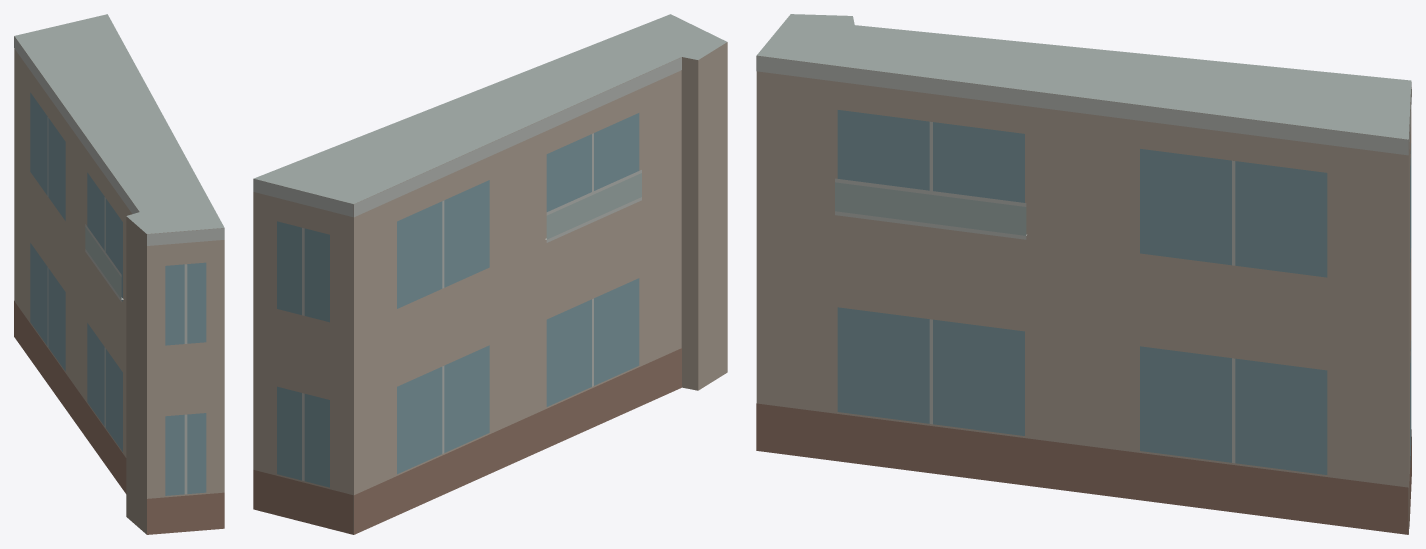
The model's file is survey-upis-32489271.glb.
3 renders of one model, left to right at view 1: azimuth 30°, elevation 25°; view 2: azimuth 150°, elevation 25°; view 3: azimuth 270°, elevation 25°, orthographic. The views are drawn at different scales.
Parts seen in each view (by area): view 1: survey-upis-32489271.tmp; view 2: survey-upis-32489271.tmp; view 3: survey-upis-32489271.tmp.
Part boxes in pixels (box(x1,y1,x2,y2)): survey-upis-32489271.tmp: box(14, 14, 224, 534); survey-upis-32489271.tmp: box(253, 14, 727, 534); survey-upis-32489271.tmp: box(756, 14, 1411, 534).
Size of the model in its own units: 4.17 by 6.1 by 9.18.
